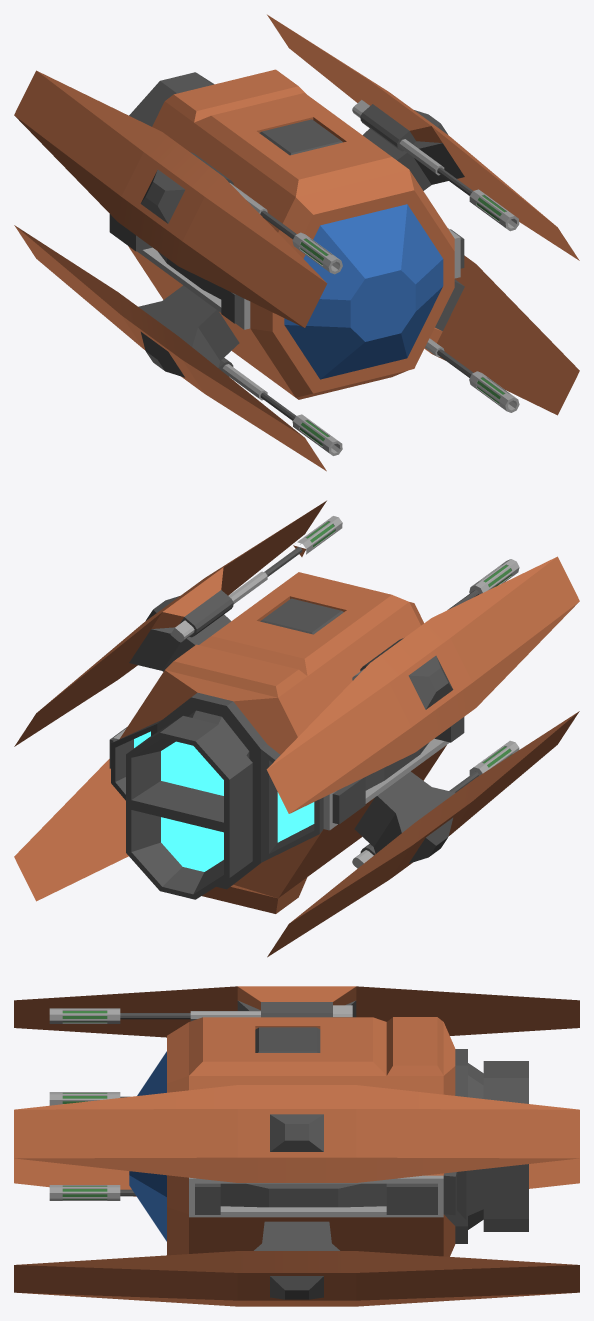
Rendered from spship5.glb.
The picture shows the model from 3 angles, top to bottom: view 1: azimuth 30°, elevation 25°; view 2: azimuth 150°, elevation 25°; view 3: azimuth 270°, elevation 25°; orthographic projection. The views are drawn at different scales.
Size of the model in its own units: 0.4348 by 0.3267 by 0.7373.
